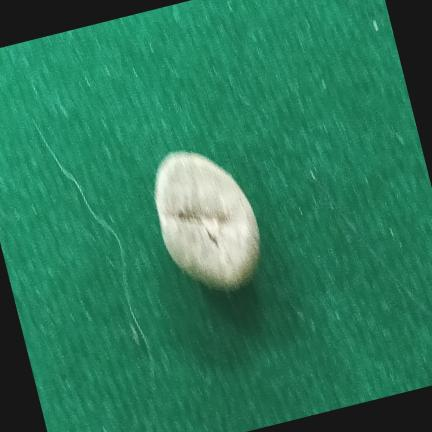good: (154, 151, 259, 289)
